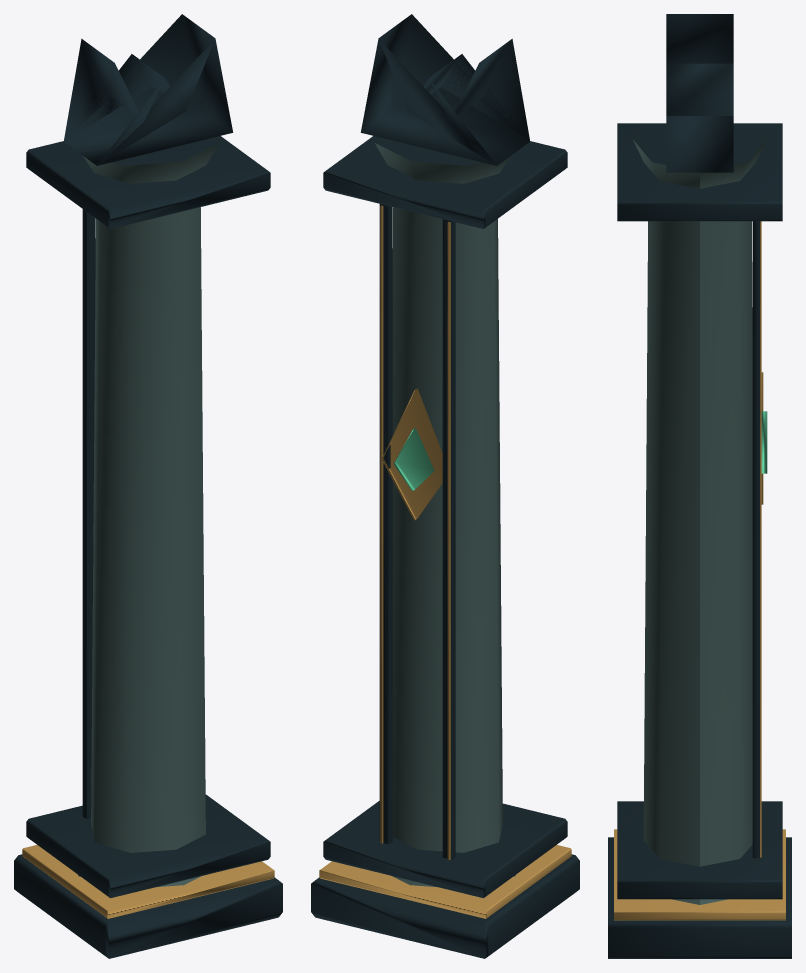
Rendered from prop_0_4.glb.
The picture shows the model from 3 angles, left to right: view 1: azimuth 30°, elevation 25°; view 2: azimuth 150°, elevation 25°; view 3: azimuth 270°, elevation 25°; orthographic projection.
Parts seen in each view (by area): view 1: CarvedPillar, Cornice (×2), SplitCrown, Plinth, Fluting, PlinthGold; view 2: CarvedPillar, Cornice (×2), SplitCrown, Fluting (×2), Plinth, PlinthGold, GiltFluting (×2), CarvedEye, EyeInset; view 3: CarvedPillar, Cornice (×2), SplitCrown, Plinth, Fluting, PlinthGold, GiltFluting, EyeInset.
Part boxes in pixels (<box>): CarvedPillar: <box>78,143,218,887</box>; Cornice (×2): <box>26,136,270,898</box>; SplitCrown: <box>63,14,233,165</box>; Plinth: <box>14,854,282,958</box>; Fluting: <box>82,209,95,818</box>; PlinthGold: <box>22,845,274,918</box>; CarvedPillar: <box>375,143,515,887</box>; Cornice (×2): <box>323,136,567,898</box>; SplitCrown: <box>360,14,530,165</box>; Fluting (×2): <box>379,204,455,859</box>; Plinth: <box>311,854,579,958</box>; PlinthGold: <box>319,845,571,918</box>; GiltFluting (×2): <box>380,205,450,859</box>; CarvedEye: <box>381,388,442,520</box>; EyeInset: <box>393,428,434,491</box>; CarvedPillar: <box>633,140,766,904</box>; Cornice (×2): <box>617,123,782,899</box>; SplitCrown: <box>666,14,733,172</box>; Plinth: <box>608,837,791,958</box>; Fluting: <box>752,221,759,858</box>; PlinthGold: <box>614,829,785,920</box>; GiltFluting: <box>760,221,761,857</box>; EyeInset: <box>761,411,767,473</box>.
Size of the model in its own units: 1.7 by 7.9 by 1.5.
